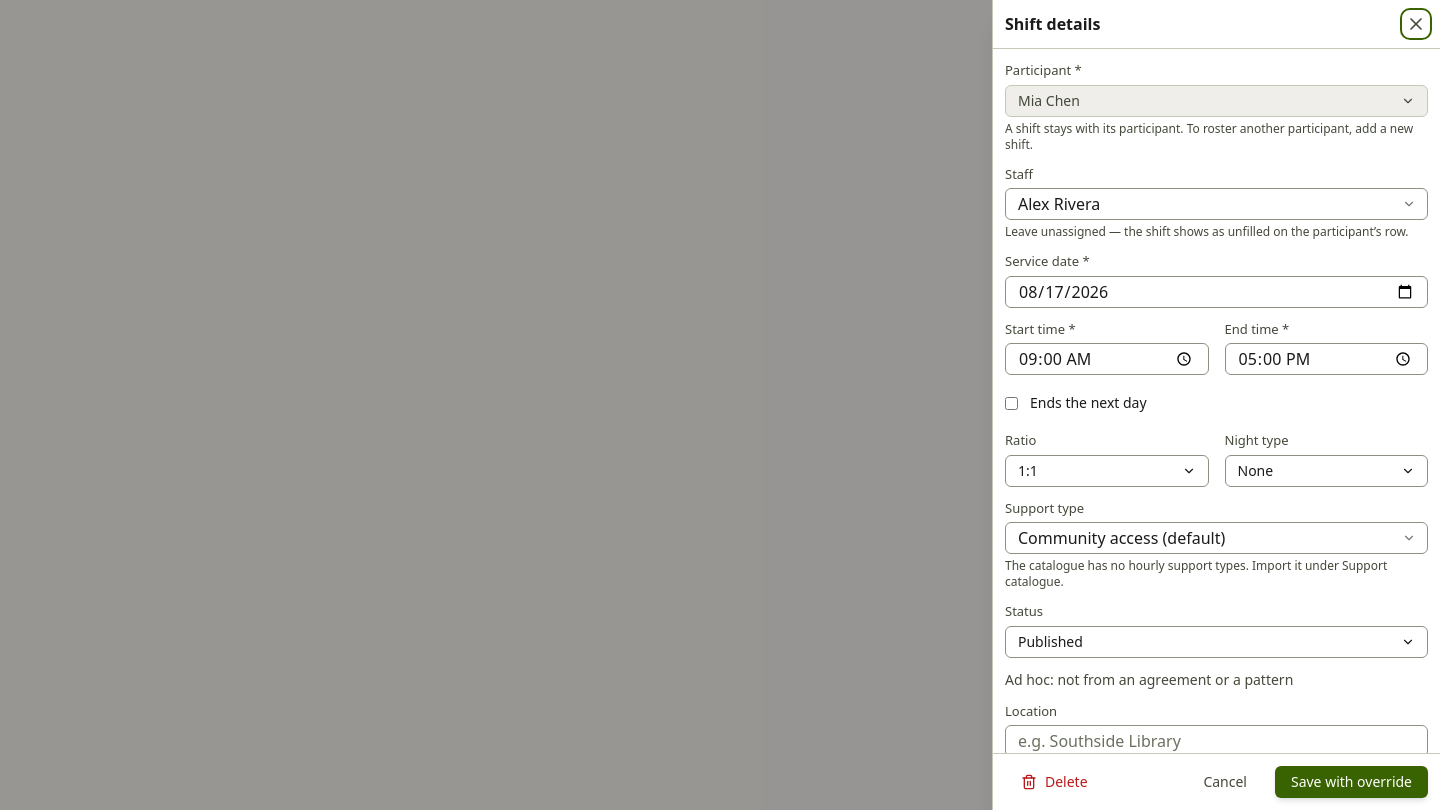
Scenario: ShiftSlideOver override gate › blocks save with Warning findings and an empty reason
What coordinates should you click on to do the following:
click the button "Save with override"
I would click on:
 (1352, 782)
Its box is [1275,766,1428,798].
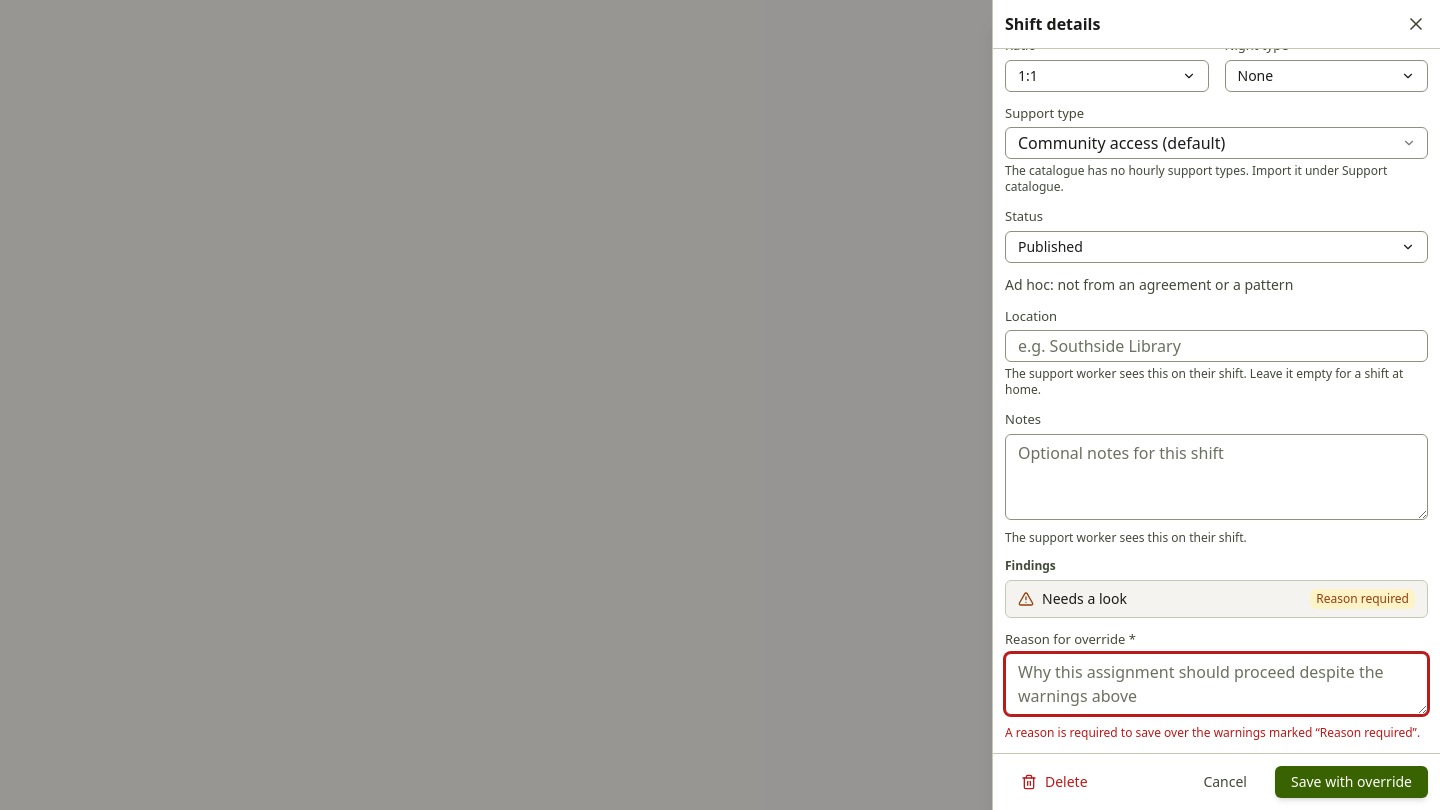
Expected: the text "A reason is required to save over the warnings marked “Reason required”." is shown, [1005,725,1428,741]
